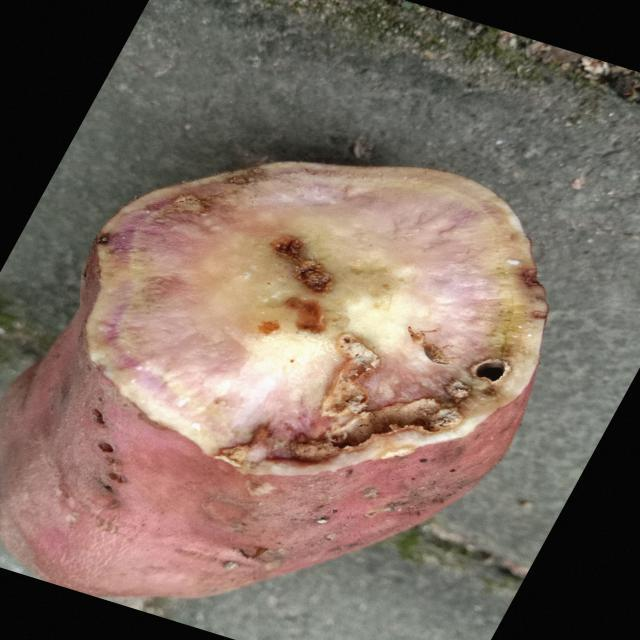Sick Sweet Potato_Tuber Rot: (85, 162, 548, 474)
